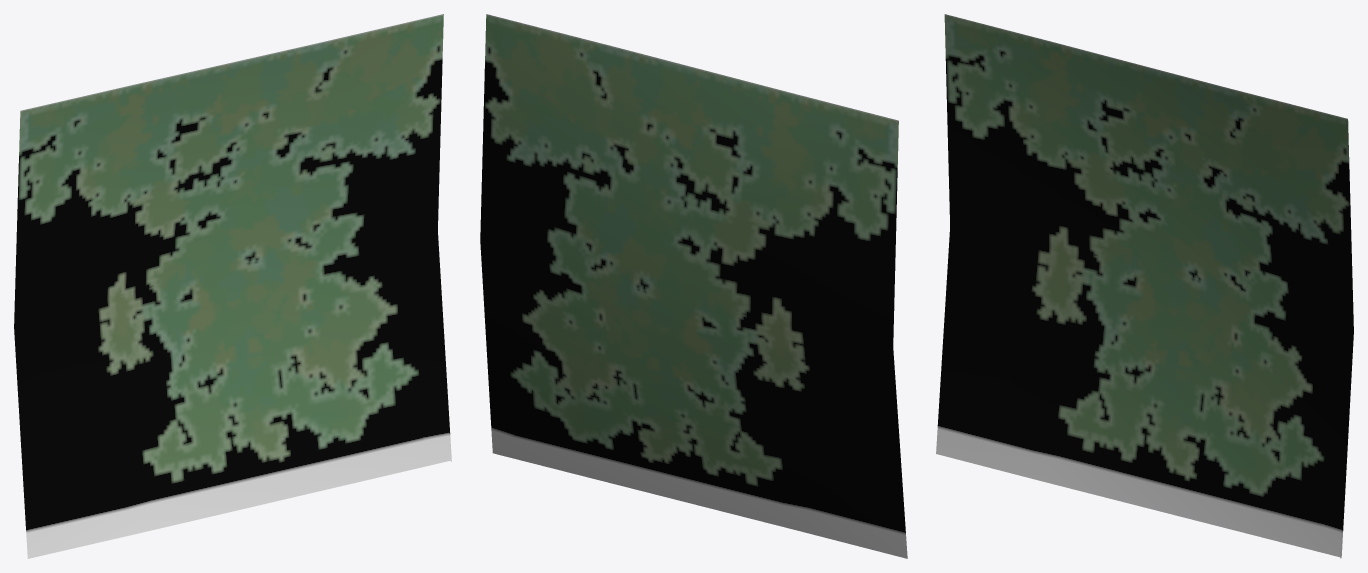
Rendered from foliage01.glb.
3 renders of one model, left to right at view 1: azimuth 30°, elevation 25°; view 2: azimuth 150°, elevation 25°; view 3: azimuth 330°, elevation 25°, orthographic. The views are drawn at different scales.
Visible parts, largest first — view 1: Plane.001; view 2: Plane.001; view 3: Plane.001.
Part boxes in pixels (bbox=[...]): Plane.001: bbox=[14, 14, 451, 558]; Plane.001: bbox=[480, 14, 907, 558]; Plane.001: bbox=[936, 14, 1353, 558].
Size of the model in its own units: 1.98 by 2 by 0.2345.
1 material, 1 textured.
